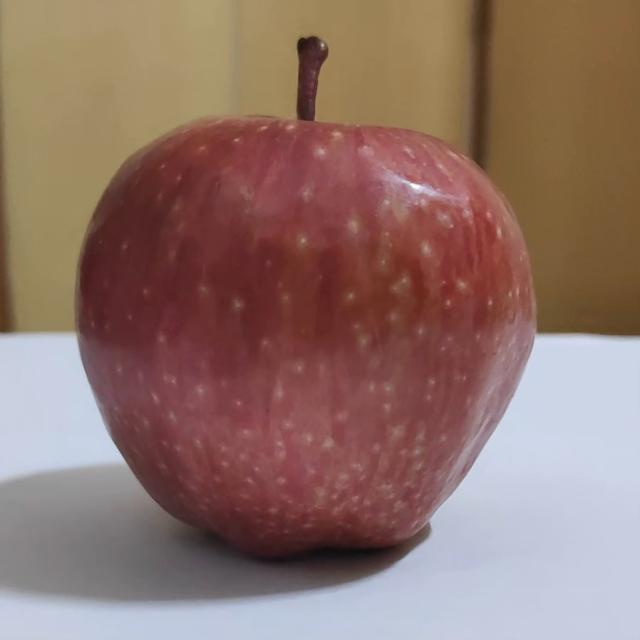apple: (73, 29, 539, 566)
